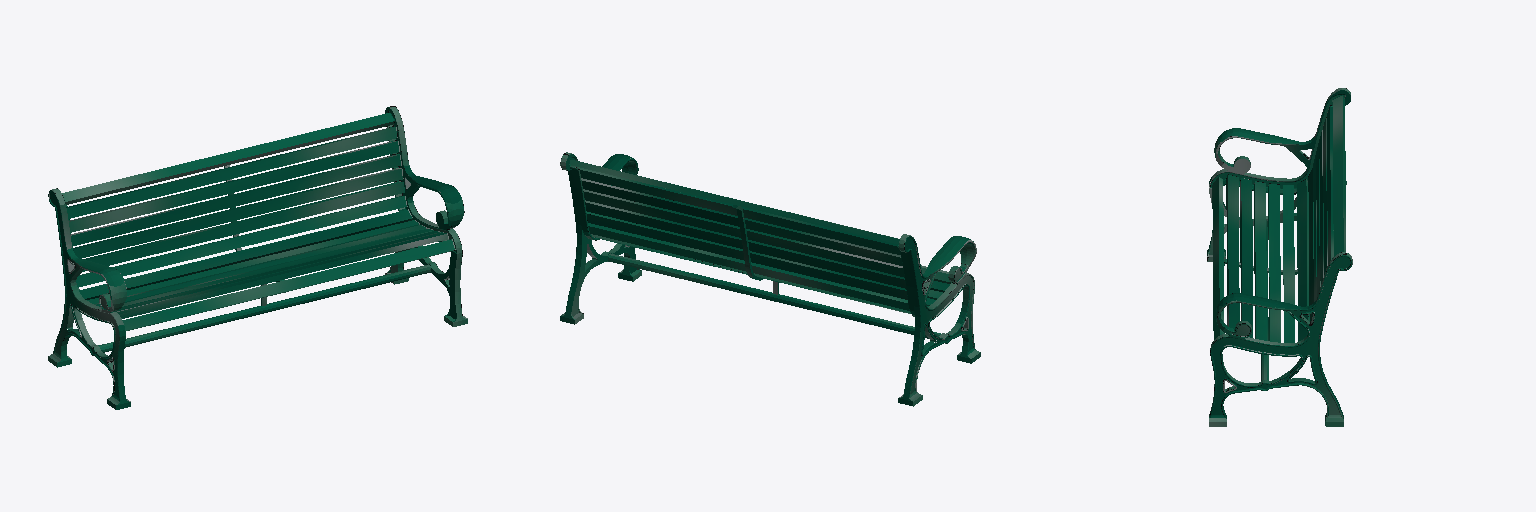
3 views of the same model, side by side, from view 1: azimuth 30°, elevation 25°; view 2: azimuth 150°, elevation 25°; view 3: azimuth 270°, elevation 25° (orthographic).
Visible parts, largest first — view 1: seat.002, frame.002; view 2: seat.002, frame.002; view 3: seat.002, frame.002.
Part boxes in pixels (x1,y1,x2,y2): seat.002: (62,113,454,330); frame.002: (48,106,467,409); seat.002: (569,160,951,313); frame.002: (560,152,980,406); seat.002: (1212,95,1345,342); frame.002: (1207,88,1352,426).
Bounding box in the file's own units: 1.14 × 0.5183 × 0.4035.
1 materials, 1 textured.